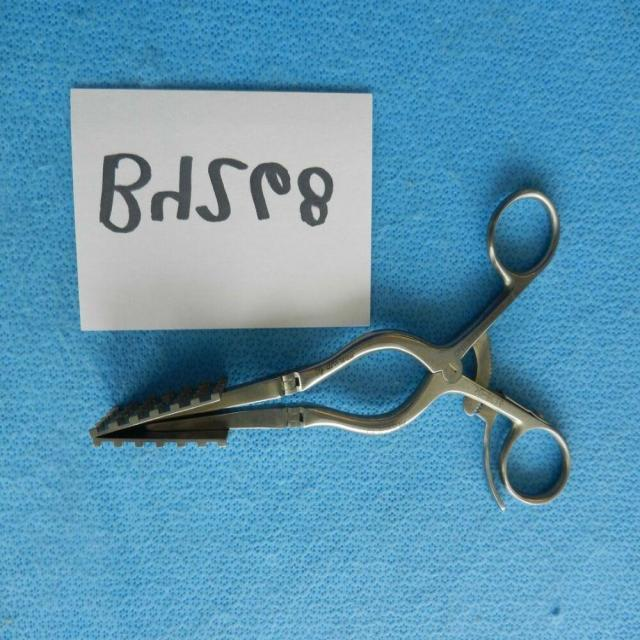Weitlaner: (93, 176, 575, 516)
